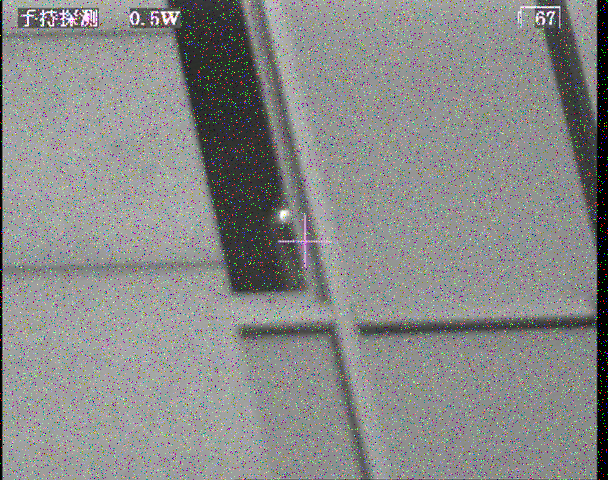my: (279, 208, 291, 222)
